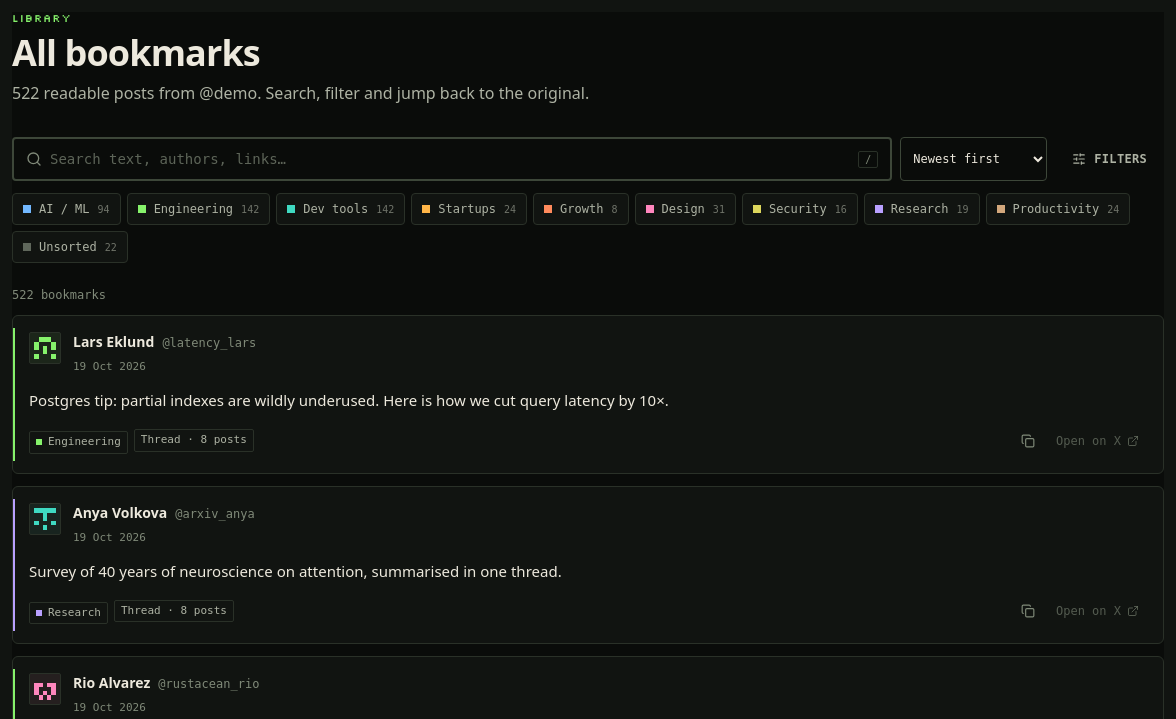
Test: Library search › keeps every keystroke when typing quickly, then syncs the URL
Type "agent" into the search field named "Search bookmarks" at (450, 159), box [50, 139, 850, 179]
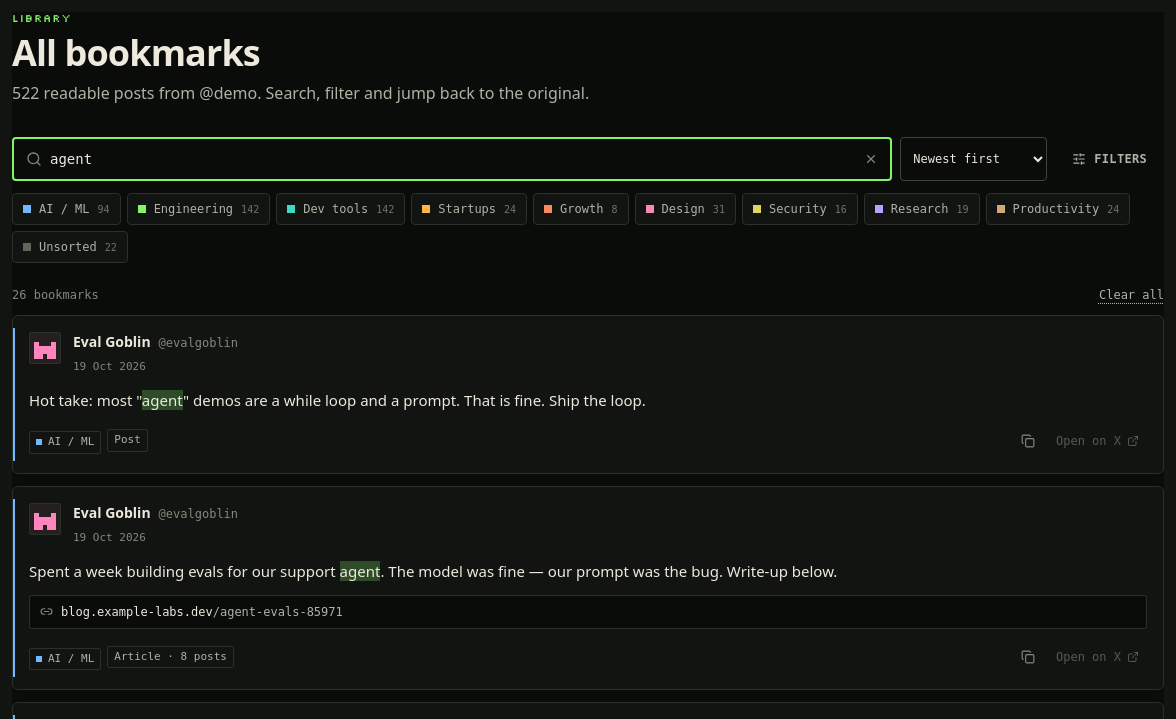
Click the button named "clear search" at (871, 159), box [864, 152, 878, 166]
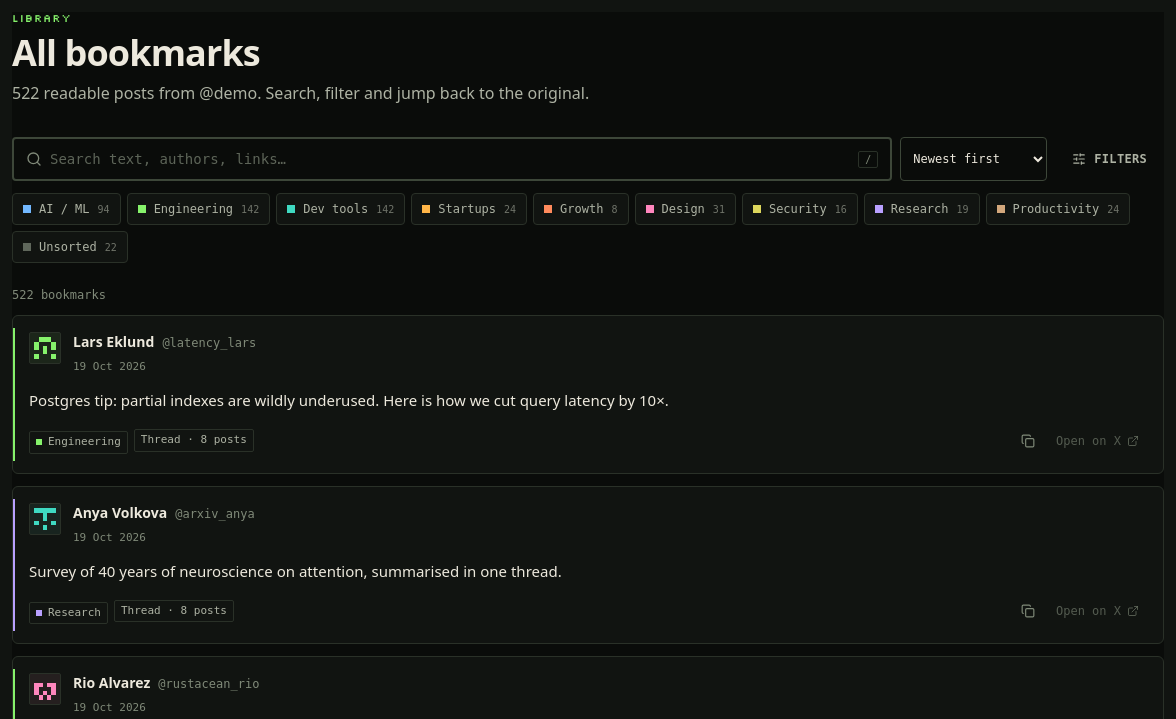
Now the search field named "Search bookmarks" is empty, box [50, 139, 850, 179]
